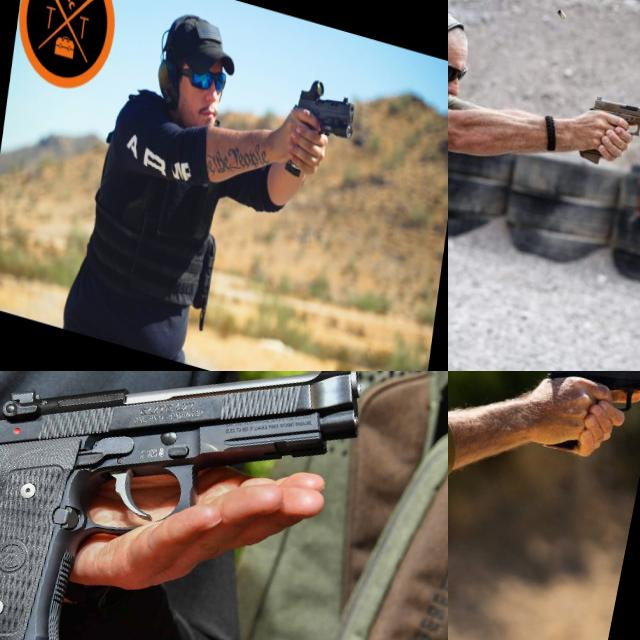handgun: (0, 371, 376, 640), (527, 371, 640, 471), (281, 70, 361, 193), (573, 91, 640, 181)
